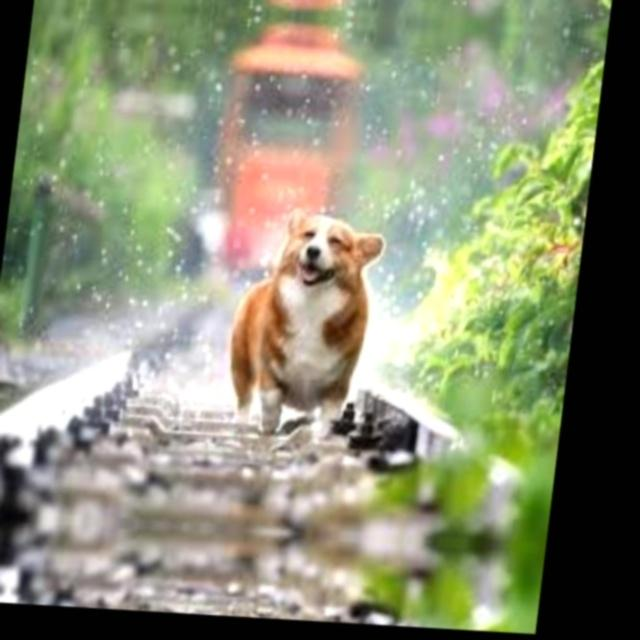dog: (206, 191, 400, 443)
